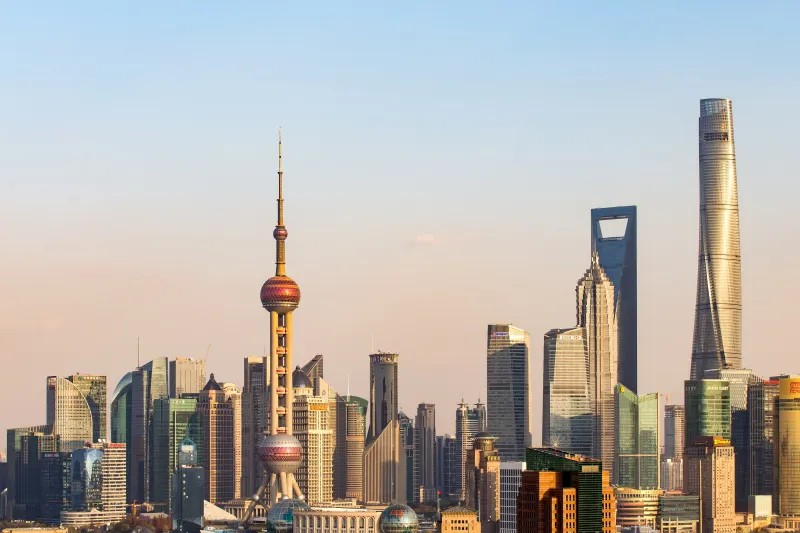Oriental: (243, 128, 303, 520)
